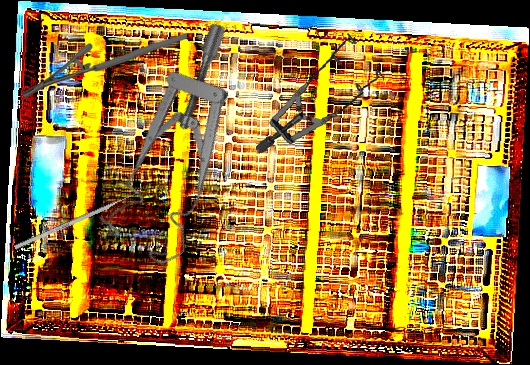Needle Holder: (21, 31, 189, 101)
Pusher: (13, 189, 143, 250)
Speculum: (61, 19, 314, 279), (242, 29, 392, 154)
